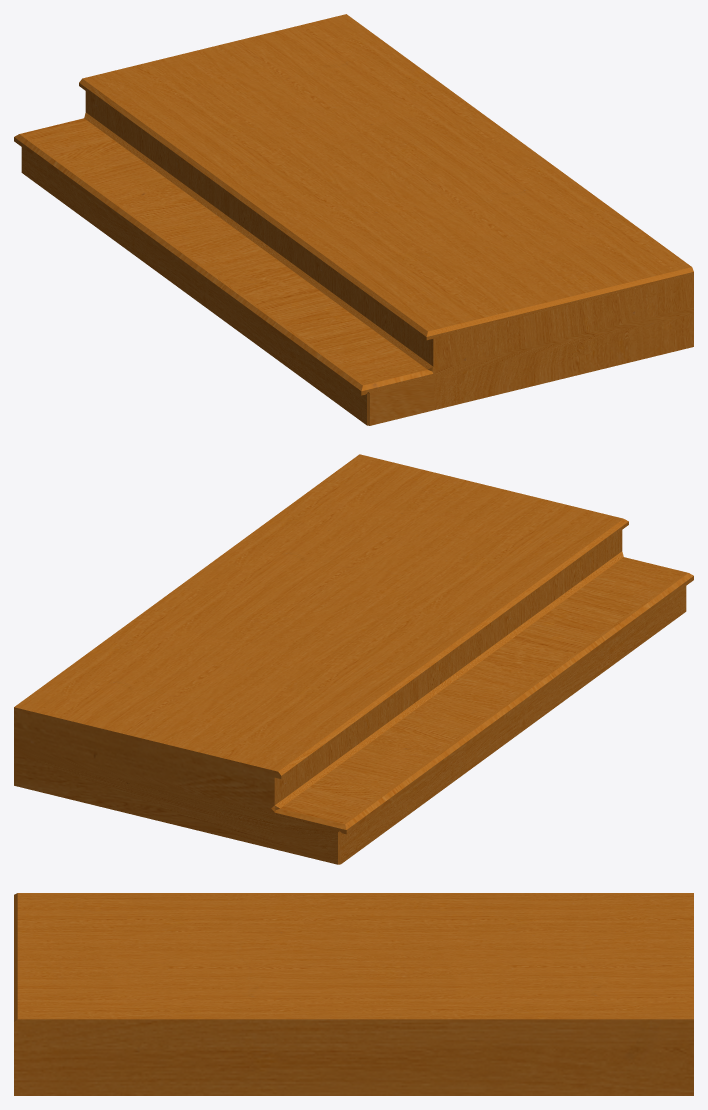
Rendered from escaleras.obj.
3 renders of one model, top to bottom at view 1: azimuth 30°, elevation 25°; view 2: azimuth 150°, elevation 25°; view 3: azimuth 270°, elevation 25°, orthographic. The views are drawn at different scales.
Visible parts, largest first — view 1: stairs:polySurface294; view 2: stairs:polySurface294; view 3: stairs:polySurface294.
Part boxes in pixels (box(x1,y1,x2,y2)): stairs:polySurface294: box(14, 14, 693, 425); stairs:polySurface294: box(14, 454, 693, 864); stairs:polySurface294: box(14, 893, 693, 1095).
Size of the model in its own units: 2.45 by 0.5516 by 4.43.
Materials: 1 (1 with a texture image).
